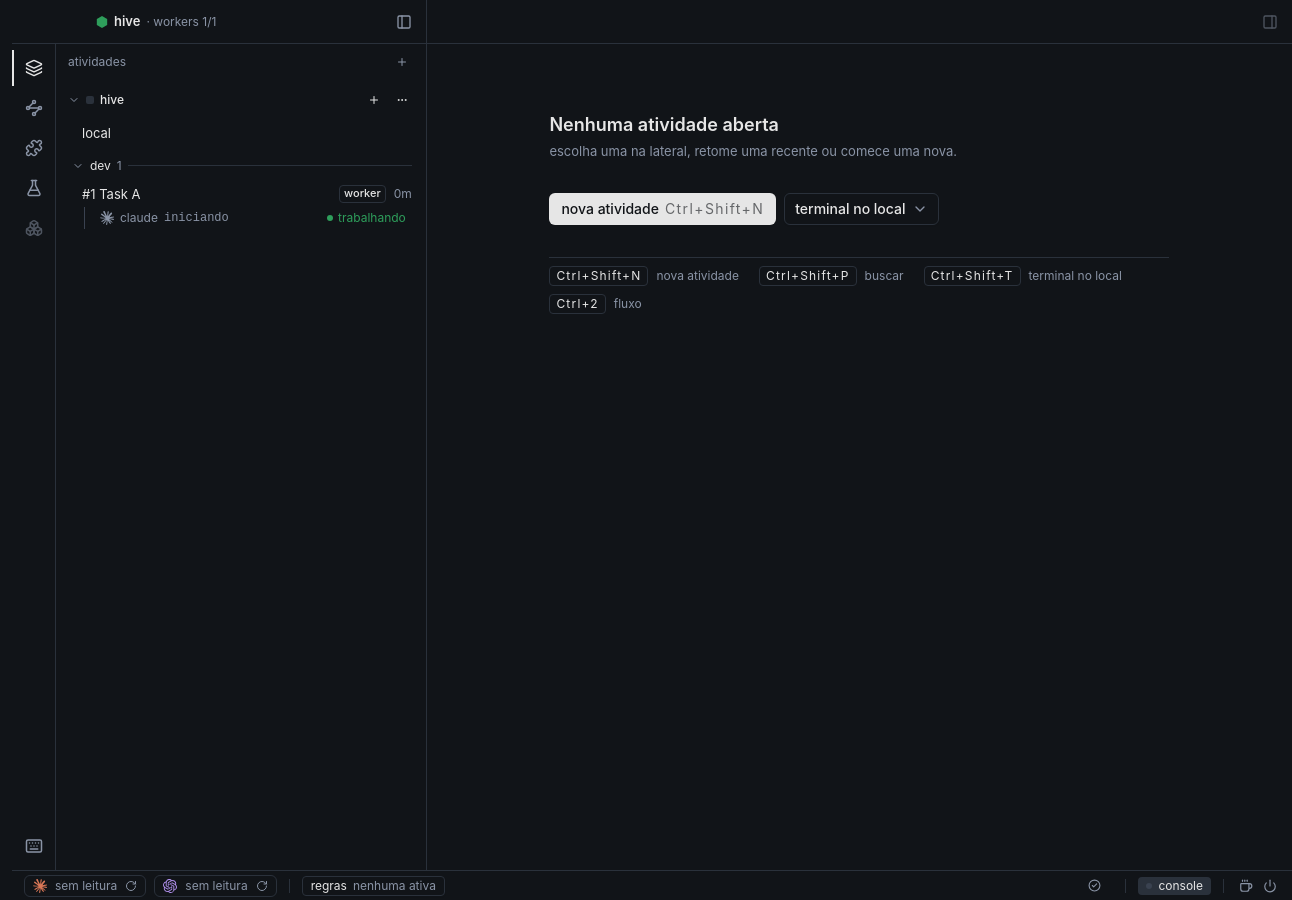
Test case: a hive pick holds with no source configured and leaves only the tasks created in the Hive in the flow (#665)
The image size is (1292, 900).
Click the button named "fluxo" at (34, 108), box x1=12 y1=90 x2=56 y2=126
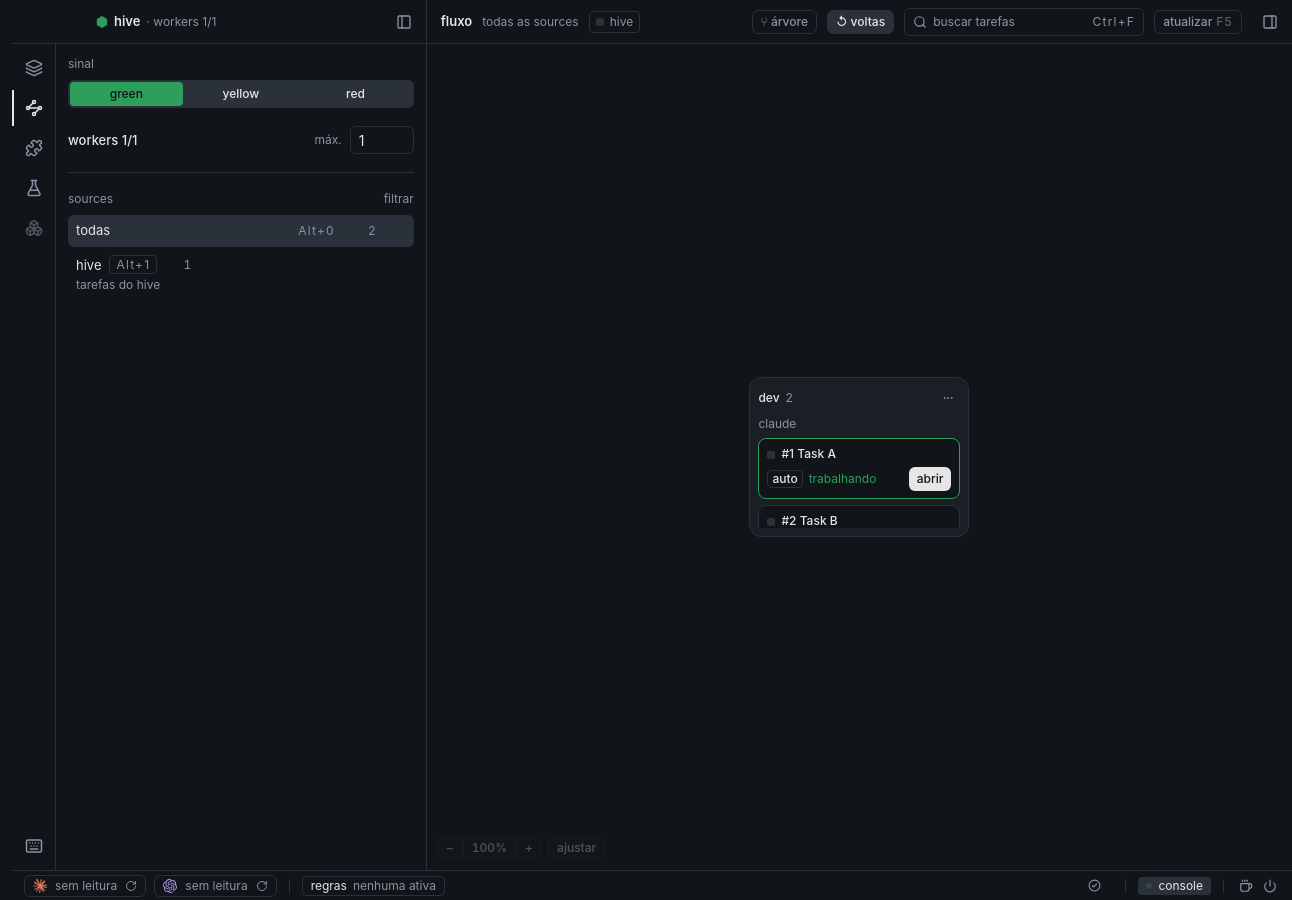
Click the button "hive Alt+1 1 tarefas do hive" at (133, 264), box x1=68 y1=249 x2=414 y2=299
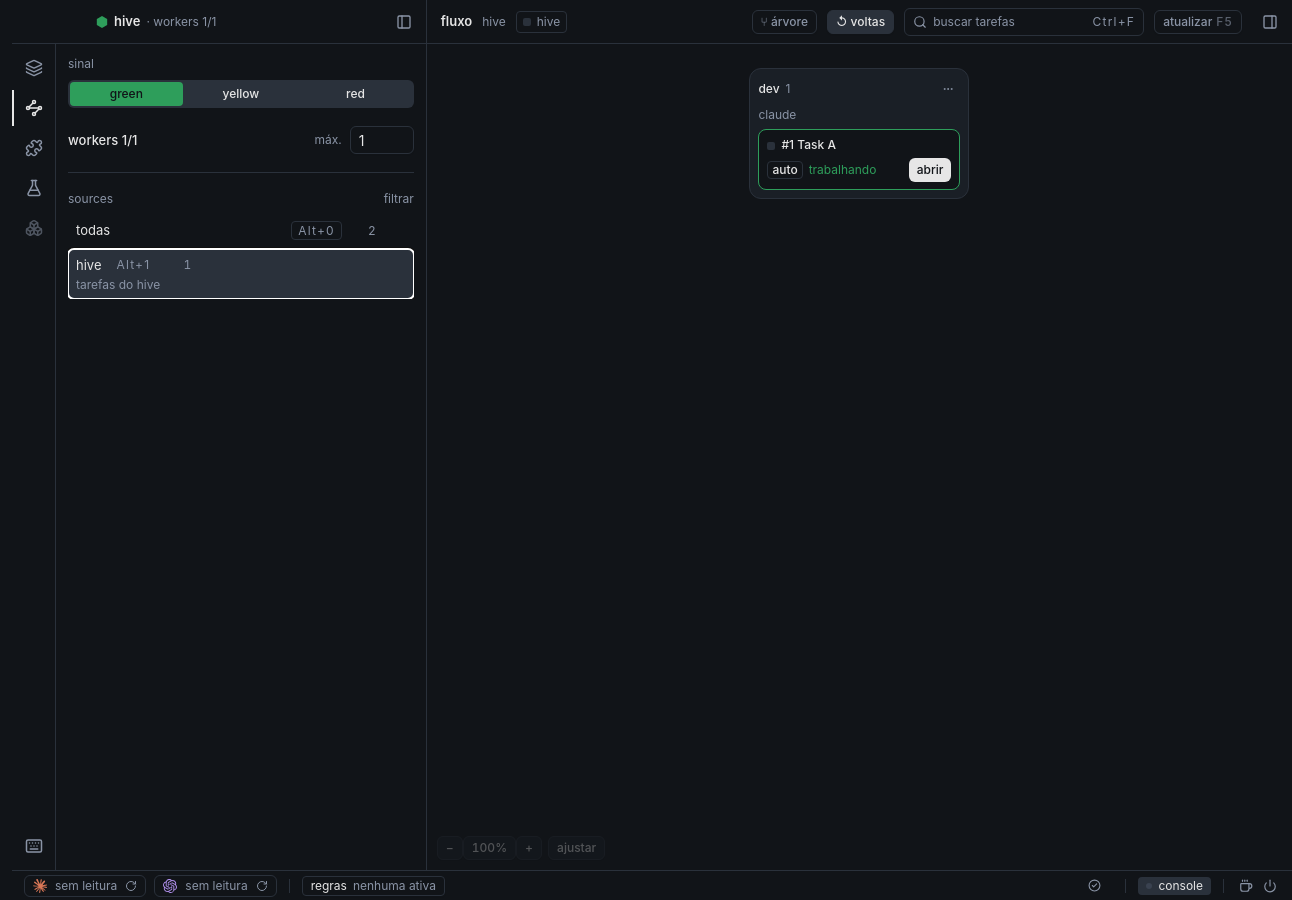
expect the text "#1 Task A" is shown: met, box x1=767 y1=137 x2=836 y2=152
expect the text "#2 Task B" is gone: met
